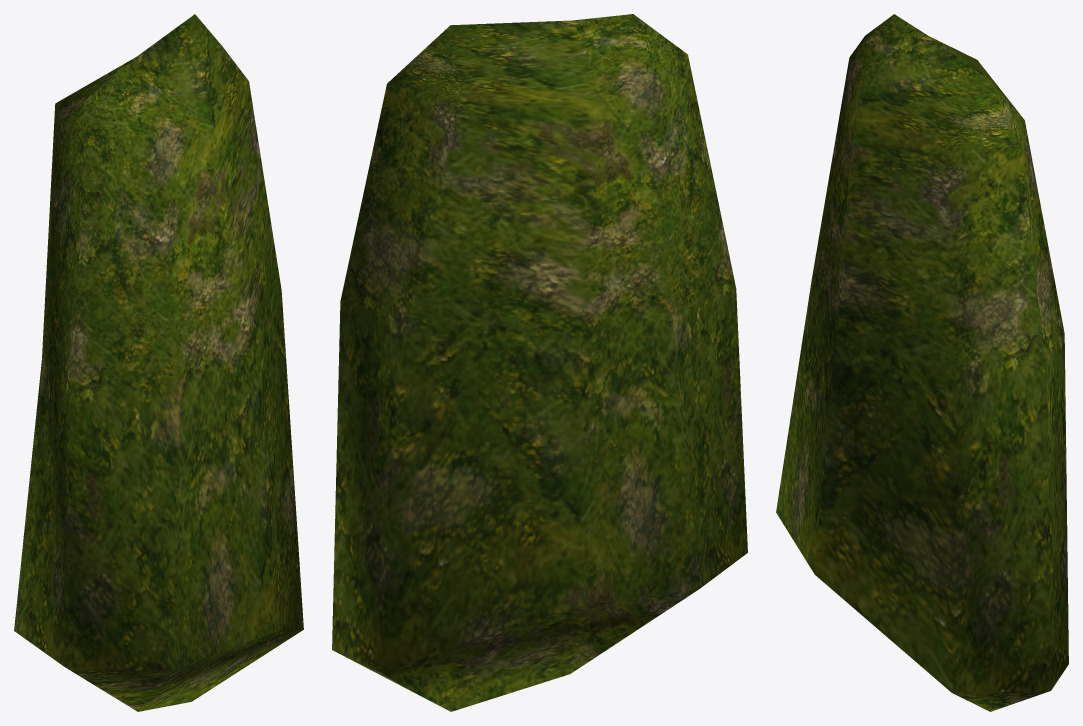
File: OVERHILL_A_01_ROCK26.fbx
The picture shows the model from 3 angles, left to right: view 1: azimuth 30°, elevation 25°; view 2: azimuth 150°, elevation 25°; view 3: azimuth 270°, elevation 25°; orthographic projection. The views are drawn at different scales.
Parts seen in each view (by area): view 1: OVERHILL_A_01_ROCK26; view 2: OVERHILL_A_01_ROCK26; view 3: OVERHILL_A_01_ROCK26.
Part boxes in pixels (x1,y1,x2,y2): OVERHILL_A_01_ROCK26: [14, 14, 303, 711]; OVERHILL_A_01_ROCK26: [332, 14, 747, 711]; OVERHILL_A_01_ROCK26: [776, 14, 1068, 711].
Bounding box in the file's own units: 14601 × 31794 × 13201.
Materials: 1 (1 with a texture image).
